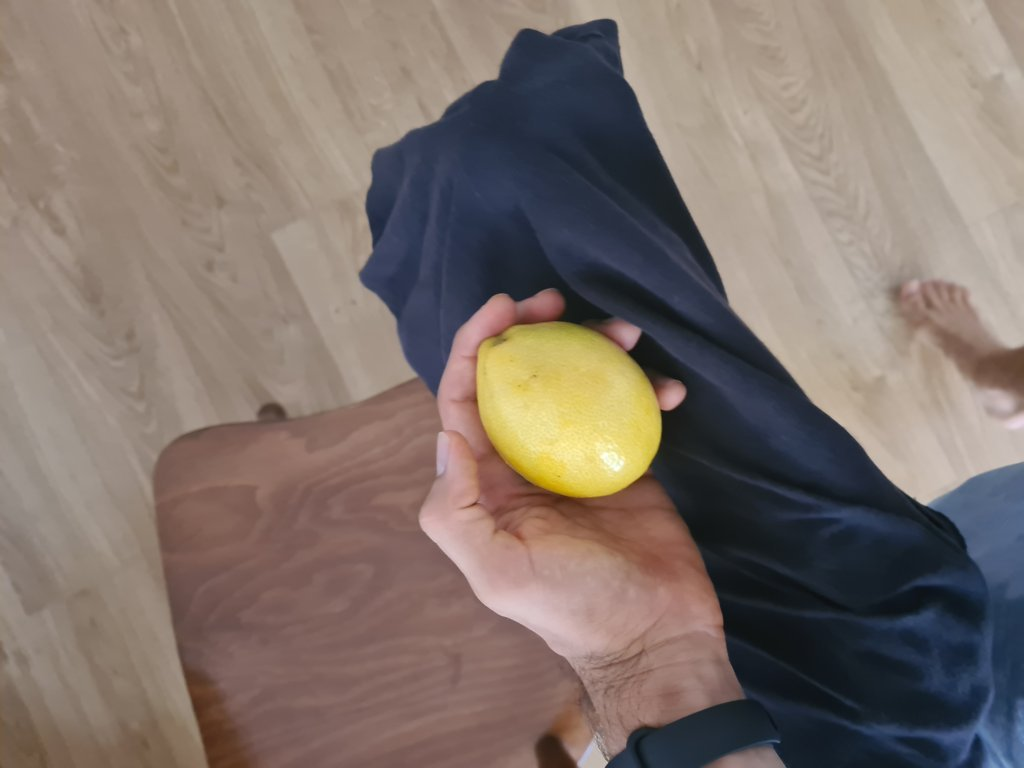lemon: (474, 318, 662, 491)
